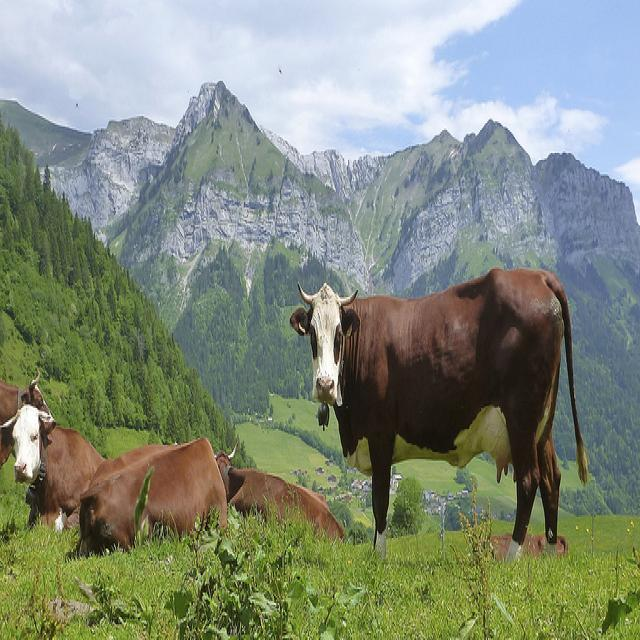cow: (287, 267, 590, 580), (78, 435, 226, 558), (214, 436, 345, 540), (0, 401, 103, 531), (0, 364, 53, 466), (489, 531, 567, 557)
